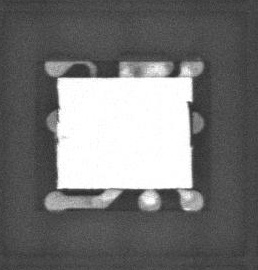DIE_BROKEN: (185, 100, 193, 151), (54, 88, 61, 123)
